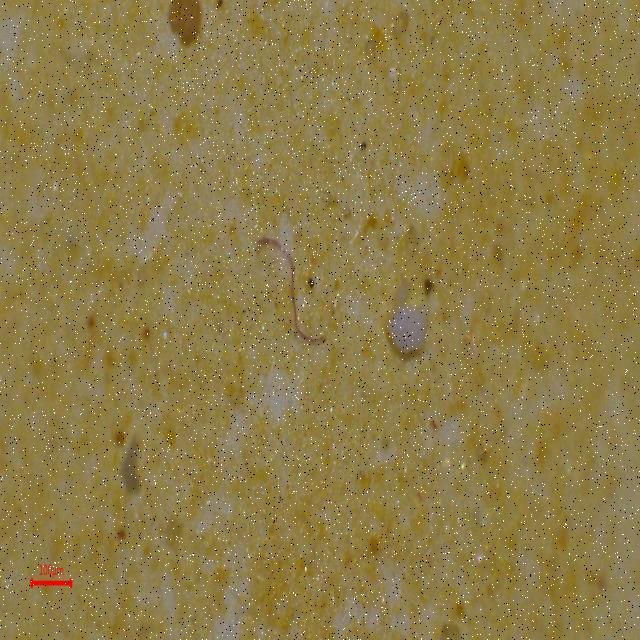Fibre: (254, 234, 330, 350)
microbeads: (382, 304, 431, 364)
